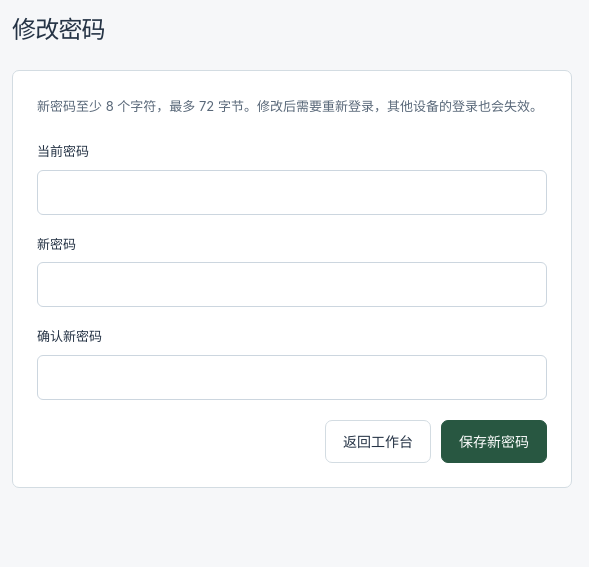
change own password › rejects mismatched confirmation before sending a request
Type "password123" into the password field labelled "当前密码" at (292,192), box [37,170,547,215]
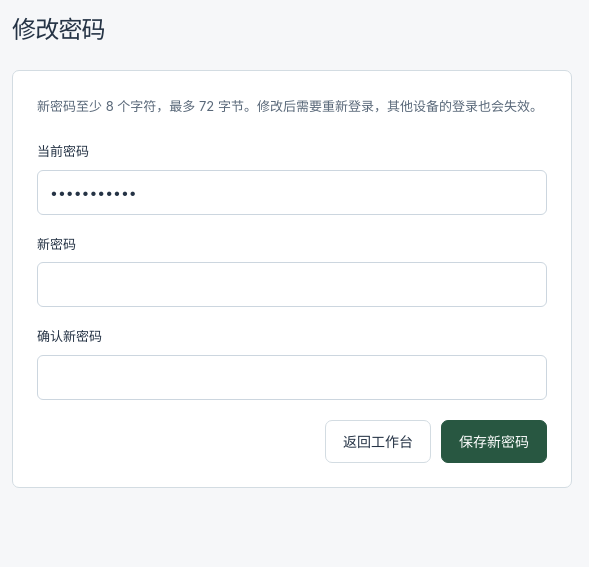
Type "changed123" into the password field labelled "新密码" at (292,285), box [37,262,547,307]
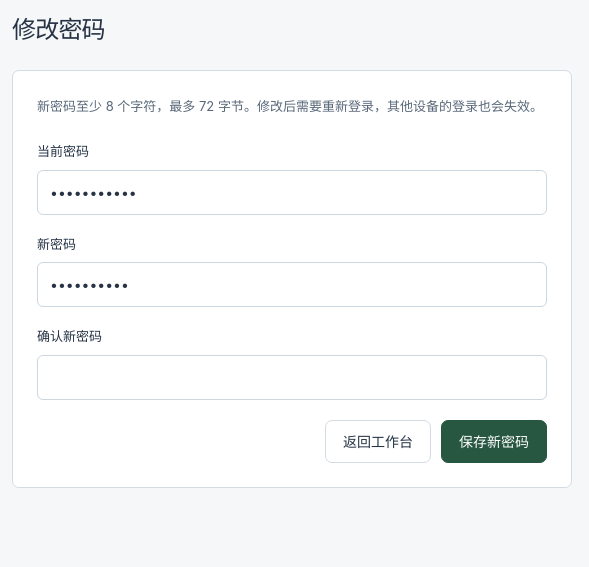
Type "different123" into the password field labelled "确认新密码" at (292,377), box [37,355,547,400]
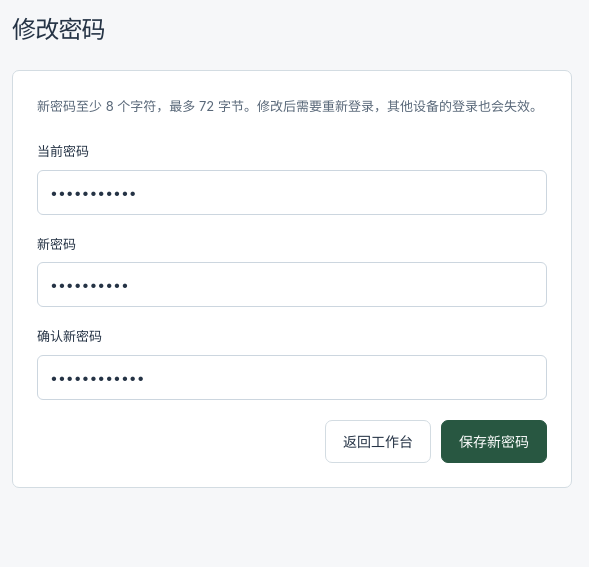
Click the button "保存新密码" at (494,441), box [441,420,547,463]
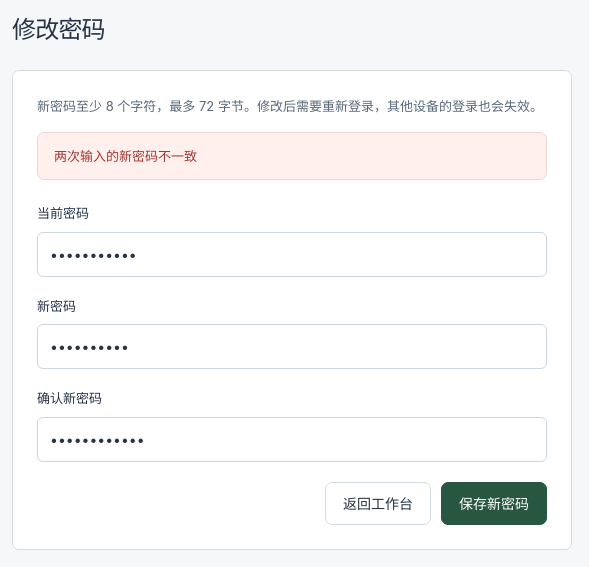
Expected: the message reads "两次输入的新密码不一致", [54,148,197,164]
